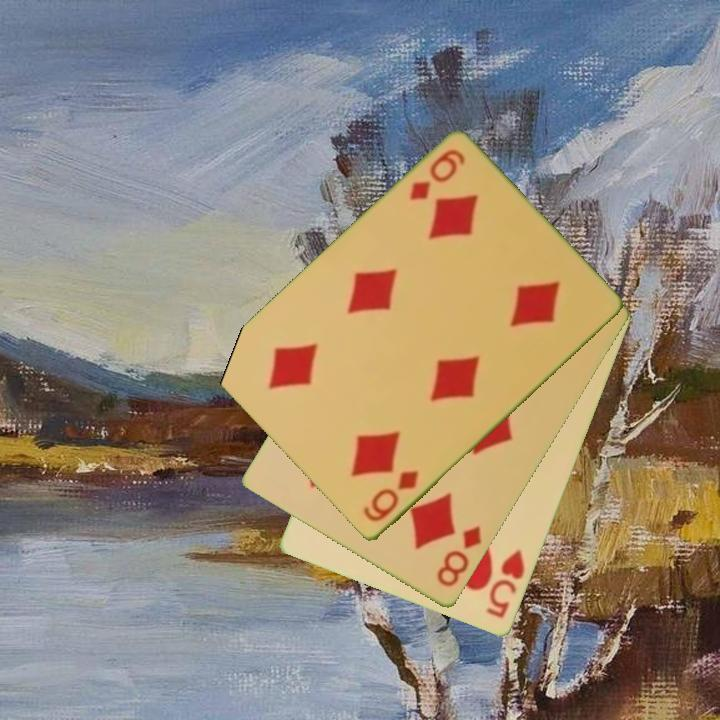5h: (483, 546, 528, 622)
6d: (359, 467, 422, 526), (406, 146, 468, 204)
8d: (433, 523, 485, 591)
